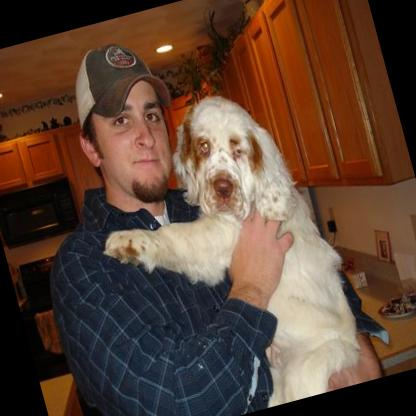clumber: (70, 74, 369, 416)
